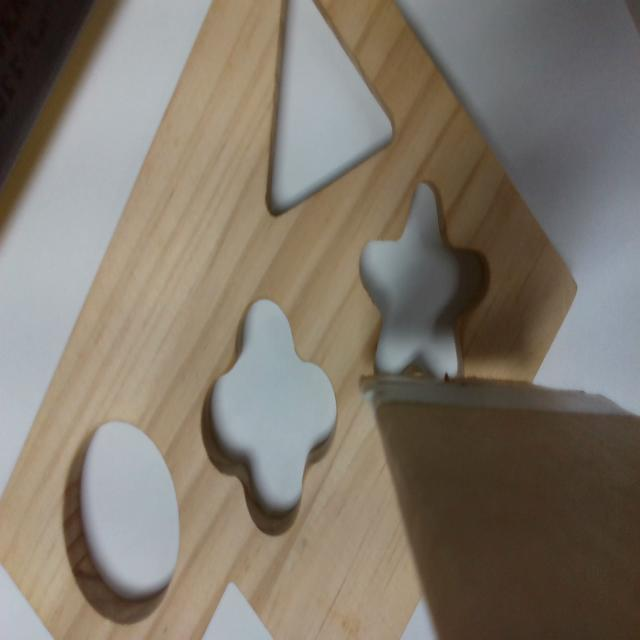circle: (63, 419, 180, 624)
flower: (203, 304, 336, 537)
square: (198, 577, 276, 639)
star: (361, 180, 492, 379)
triangle: (265, 3, 398, 223)
